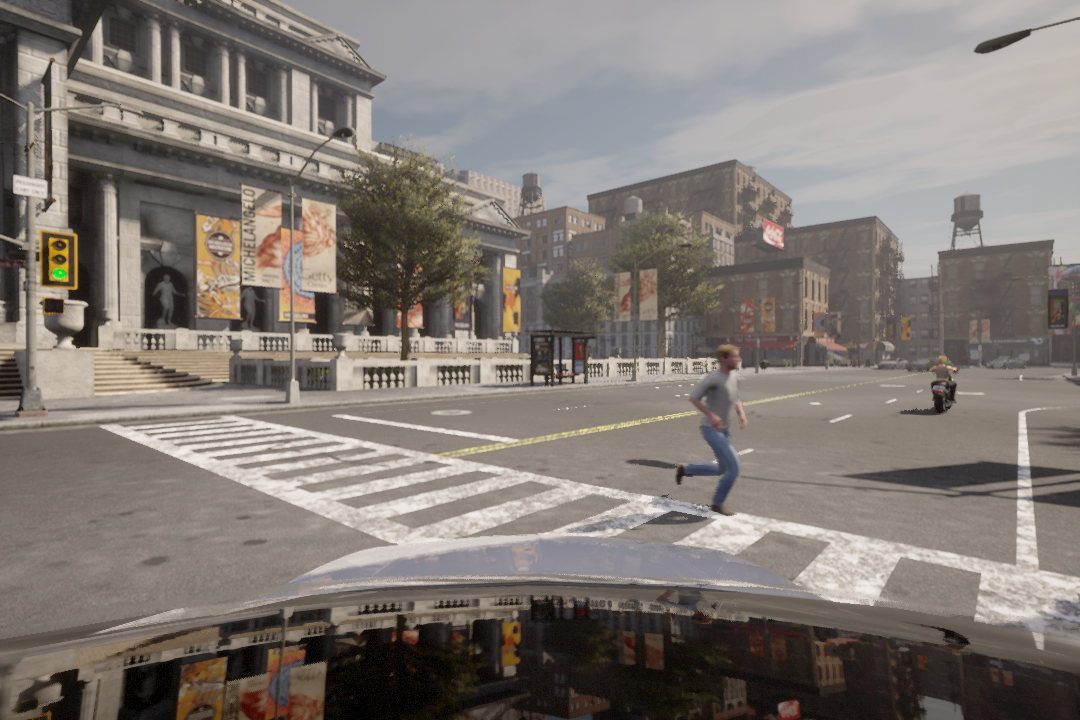TrafficLight: (41, 231, 75, 287)
walkside: (101, 417, 1079, 661)
